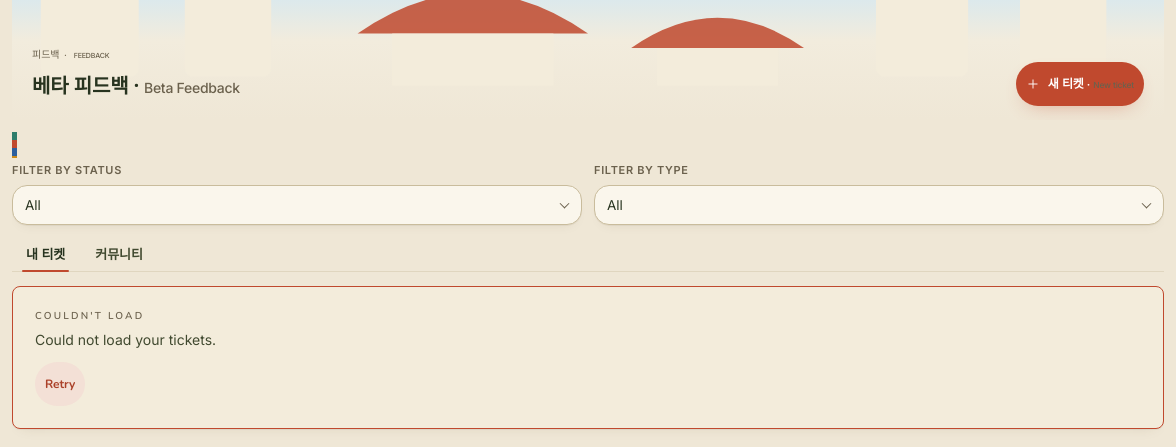
Test case: Tickets — My tickets / Community lists › lists My tickets with a status/type badge, and shows an error+retry on a failed load
Expected: the text "Could not load your tickets." is shown, [35,331,216,348]
Click the button "Retry".
click(60, 384)  # box [35,362,85,406]
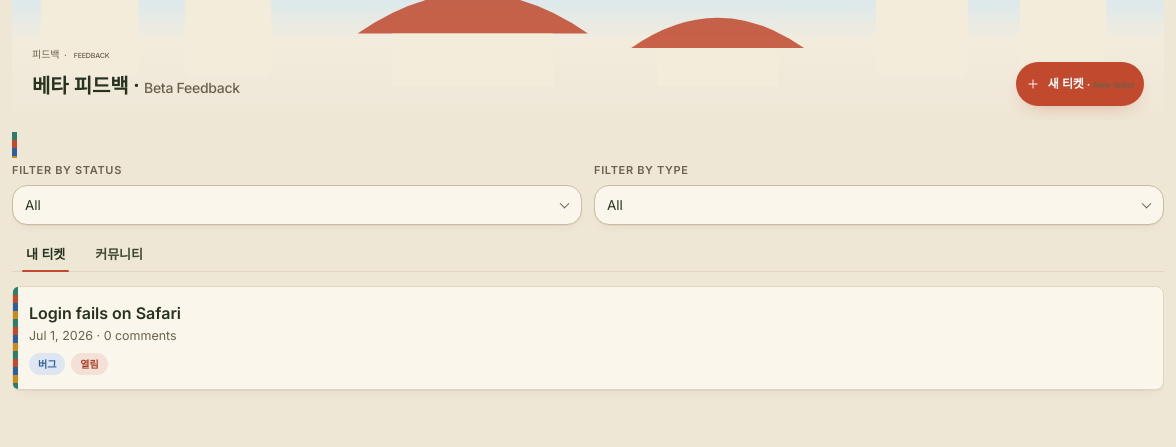
Now the text "Login fails on Safari" is shown, box [29,303,181,323]
